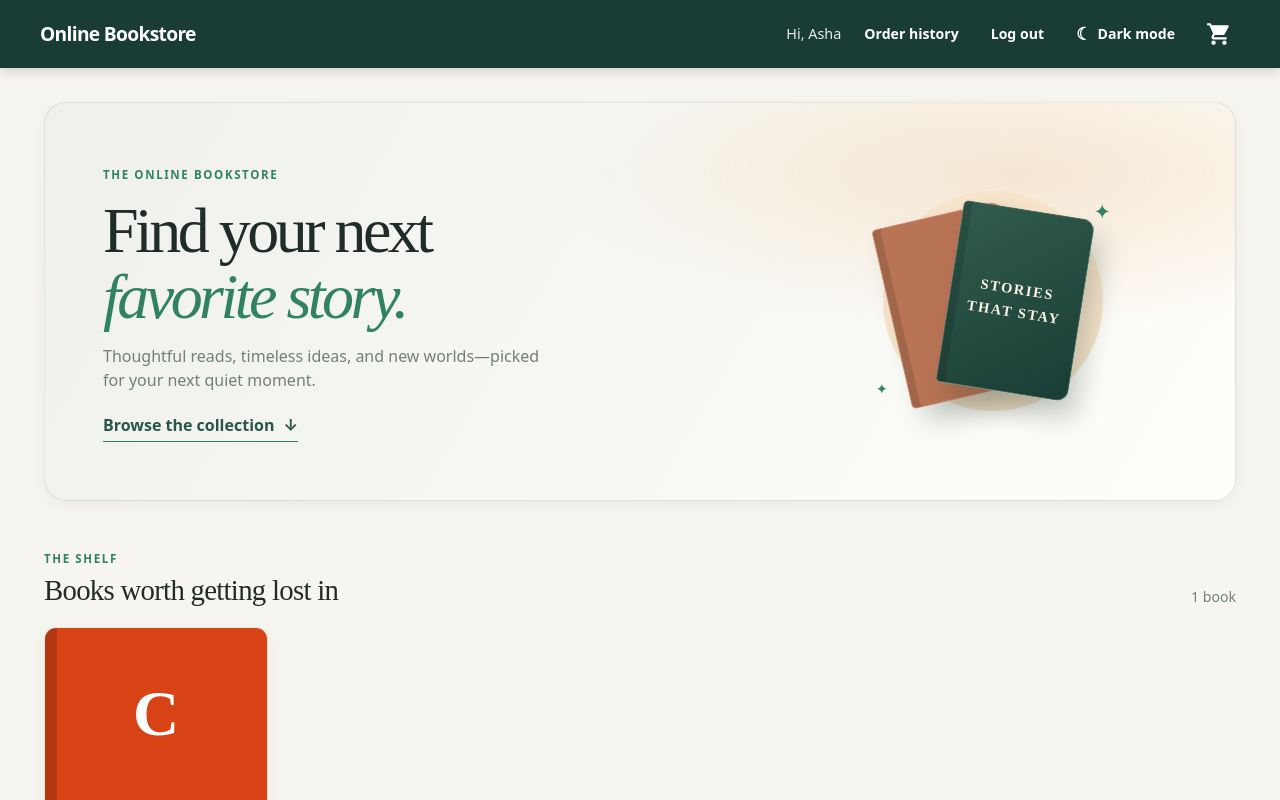
Test: App (logged in) › toggles and persists the selected theme
Step 1. Click the button with aria-label "Switch to dark theme" → x=1126, y=34, box [1067,15,1184,52]
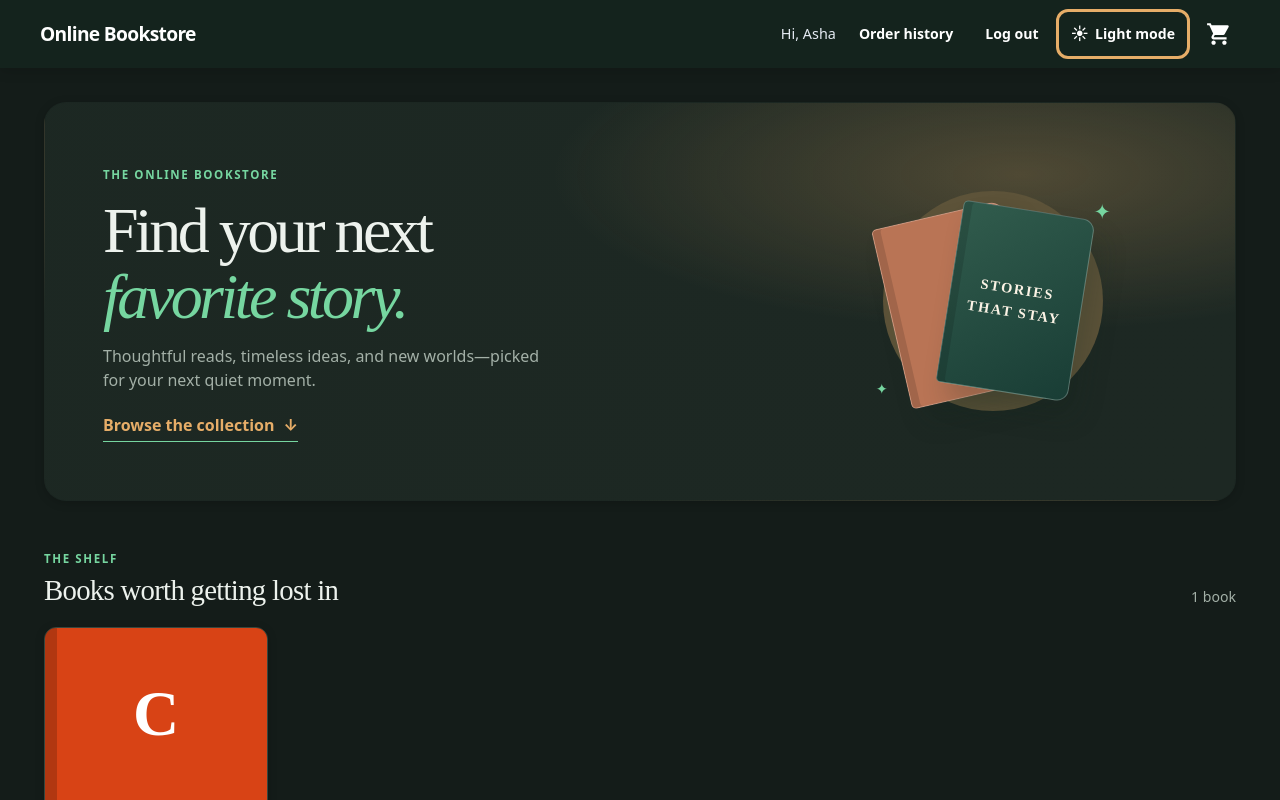
Result: the button with aria-label "Switch to light theme" is shown at [1062,15,1184,52]
